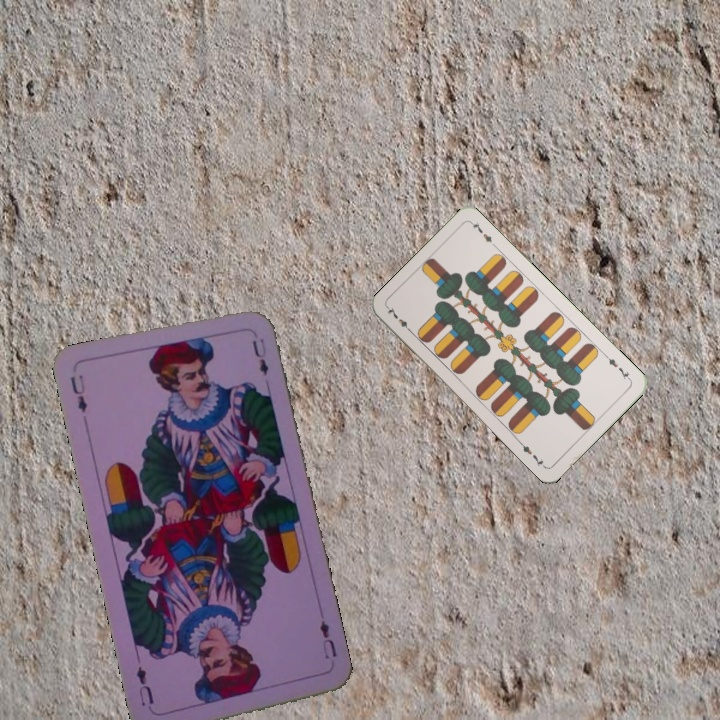E7: (602, 351, 634, 384), (383, 304, 415, 336)
EU: (315, 617, 340, 661), (67, 370, 90, 415)
